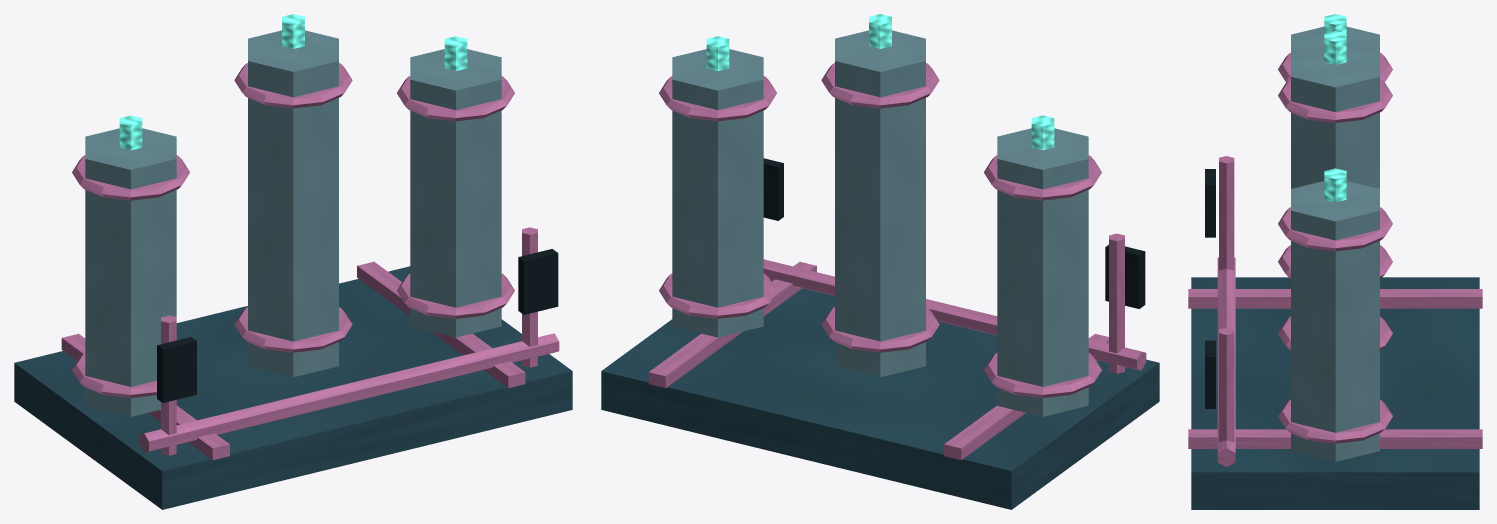
File: atlas100-s068-a01.lod1.glb
3 renders of one model, left to right at view 1: azimuth 30°, elevation 25°; view 2: azimuth 150°, elevation 25°; view 3: azimuth 270°, elevation 25°, orthographic. The views are drawn at different scales.
Visible parts, largest first — view 1: atlas100-s068-a01:part-000, atlas100-s068-a01:part-007, atlas100-s068-a01:part-011, atlas100-s068-a01:part-003, atlas100-s068-a01:part-019, atlas100-s068-a01:part-002, atlas100-s068-a01:part-018, atlas100-s068-a01:part-016, atlas100-s068-a01:part-013, atlas100-s068-a01:part-005, atlas100-s068-a01:part-012, atlas100-s068-a01:part-008 (+8 smaller); view 2: atlas100-s068-a01:part-000, atlas100-s068-a01:part-007, atlas100-s068-a01:part-011, atlas100-s068-a01:part-003, atlas100-s068-a01:part-019, atlas100-s068-a01:part-002, atlas100-s068-a01:part-015, atlas100-s068-a01:part-001, atlas100-s068-a01:part-004, atlas100-s068-a01:part-013, atlas100-s068-a01:part-005, atlas100-s068-a01:part-012 (+7 smaller); view 3: atlas100-s068-a01:part-000, atlas100-s068-a01:part-011, atlas100-s068-a01:part-007, atlas100-s068-a01:part-001, atlas100-s068-a01:part-002, atlas100-s068-a01:part-019, atlas100-s068-a01:part-015, atlas100-s068-a01:part-017, atlas100-s068-a01:part-012, atlas100-s068-a01:part-013, atlas100-s068-a01:part-009, atlas100-s068-a01:part-003 (+8 smaller).
Boxes of the visible parts, x1=… form: atlas100-s068-a01:part-000: x1=14, y1=266, x2=572, y2=509; atlas100-s068-a01:part-007: x1=248, y1=30, x2=338, y2=377; atlas100-s068-a01:part-011: x1=410, y1=49, x2=501, y2=337; atlas100-s068-a01:part-003: x1=85, y1=128, x2=176, y2=416; atlas100-s068-a01:part-019: x1=139, y1=333, x2=559, y2=452; atlas100-s068-a01:part-002: x1=357, y1=261, x2=525, y2=388; atlas100-s068-a01:part-018: x1=518, y1=249, x2=558, y2=314; atlas100-s068-a01:part-016: x1=157, y1=337, x2=196, y2=402; atlas100-s068-a01:part-013: x1=397, y1=76, x2=514, y2=121; atlas100-s068-a01:part-005: x1=72, y1=155, x2=189, y2=200; atlas100-s068-a01:part-012: x1=397, y1=273, x2=514, y2=318; atlas100-s068-a01:part-008: x1=234, y1=307, x2=352, y2=352; atlas100-s068-a01:part-000: x1=601, y1=280, x2=1159, y2=509; atlas100-s068-a01:part-007: x1=835, y1=30, x2=925, y2=377; atlas100-s068-a01:part-011: x1=672, y1=49, x2=763, y2=337; atlas100-s068-a01:part-003: x1=997, y1=128, x2=1088, y2=416; atlas100-s068-a01:part-019: x1=763, y1=259, x2=1146, y2=370; atlas100-s068-a01:part-002: x1=648, y1=261, x2=816, y2=388; atlas100-s068-a01:part-015: x1=1109, y1=233, x2=1124, y2=373; atlas100-s068-a01:part-001: x1=944, y1=333, x2=1108, y2=460; atlas100-s068-a01:part-004: x1=984, y1=353, x2=1101, y2=397; atlas100-s068-a01:part-013: x1=659, y1=76, x2=776, y2=121; atlas100-s068-a01:part-005: x1=984, y1=155, x2=1101, y2=200; atlas100-s068-a01:part-012: x1=659, y1=273, x2=776, y2=318; atlas100-s068-a01:part-000: x1=1191, y1=277, x2=1479, y2=509; atlas100-s068-a01:part-011: x1=1291, y1=181, x2=1379, y2=461; atlas100-s068-a01:part-007: x1=1291, y1=47, x2=1379, y2=188; atlas100-s068-a01:part-001: x1=1188, y1=289, x2=1482, y2=308; atlas100-s068-a01:part-002: x1=1188, y1=429, x2=1482, y2=448; atlas100-s068-a01:part-019: x1=1217, y1=257, x2=1235, y2=466; atlas100-s068-a01:part-015: x1=1219, y1=156, x2=1234, y2=270; atlas100-s068-a01:part-017: x1=1219, y1=327, x2=1234, y2=442; atlas100-s068-a01:part-012: x1=1278, y1=399, x2=1392, y2=443; atlas100-s068-a01:part-013: x1=1278, y1=207, x2=1392, y2=251; atlas100-s068-a01:part-009: x1=1278, y1=79, x2=1392, y2=122; atlas100-s068-a01:part-003: x1=1291, y1=26, x2=1379, y2=54.
Size of the model in its own units: 3 by 2.59 by 1.84.
5 materials, 5 textured.
